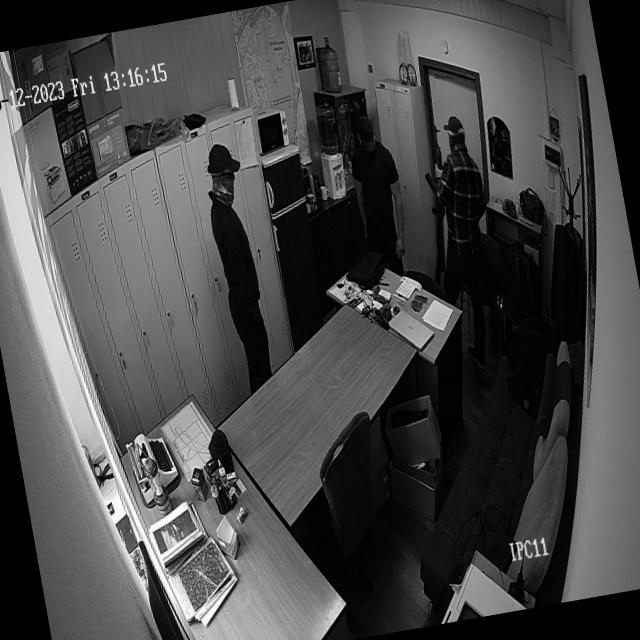gun: (416, 125, 458, 253)
person: (197, 137, 276, 370), (341, 108, 414, 262)
person with a gun: (412, 110, 503, 304)
